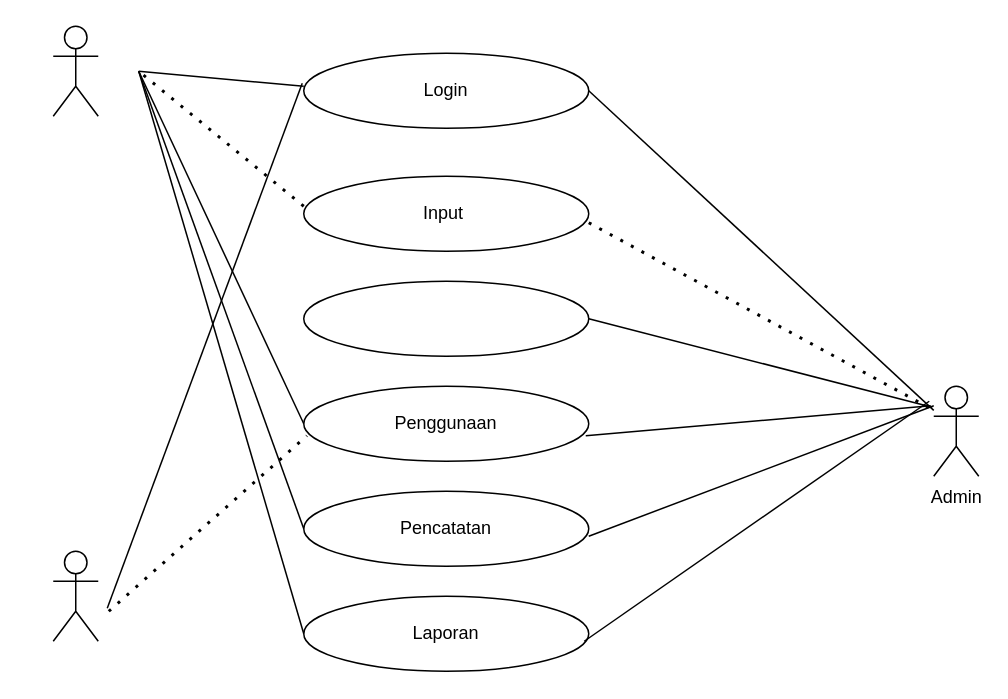
Some shapes in this 1008 by 699 pixel diagram are drawn without their labels. Here are the shapes that lost their labels. From the top down, the centre of each, then its label:
the point at 75,70: Petugas Lab
the point at 445,318: Verifikasi
the point at 75,595: Siswa
